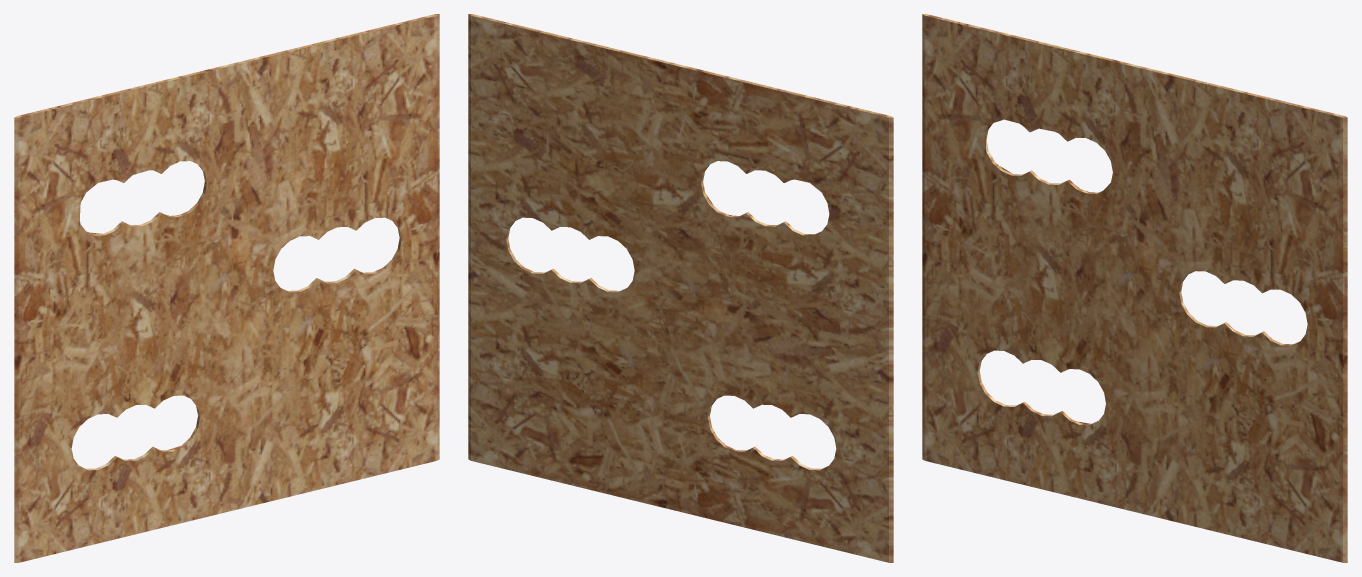
Rendered from small_wall_triple_holes.dae.
The picture shows the model from 3 angles, left to right: view 1: azimuth 30°, elevation 25°; view 2: azimuth 150°, elevation 25°; view 3: azimuth 330°, elevation 25°; orthographic projection.
Visible parts, largest first — view 1: Plane; view 2: Plane; view 3: Plane.
Boxes of the visible parts, left/top/right/bottom form: Plane: left=14, top=14, right=439, bottom=562; Plane: left=468, top=14, right=893, bottom=562; Plane: left=922, top=14, right=1347, bottom=562.
Bounding box in the file's own units: 1.2 × 0.01 × 1.2.
1 material, 1 textured.
